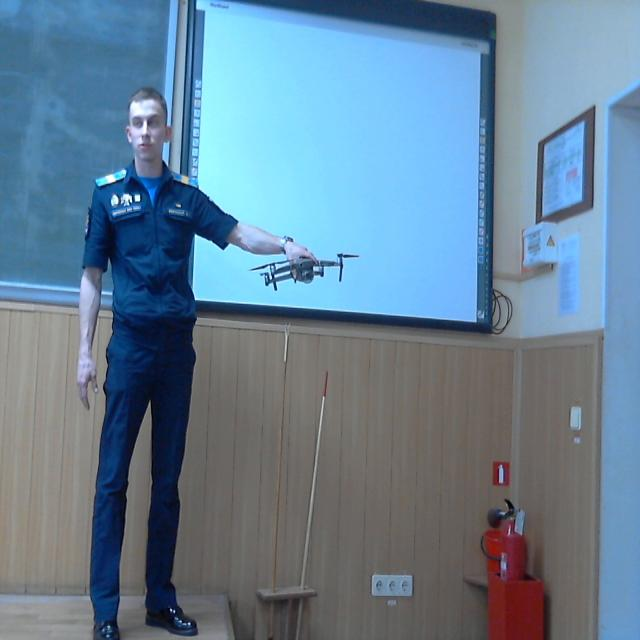drone: (247, 236, 361, 307)
